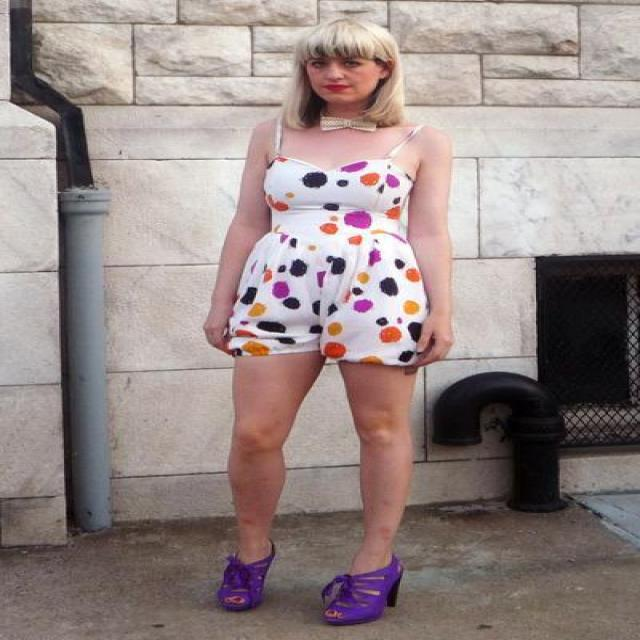dress: (203, 157, 424, 375)
shoe: (218, 550, 402, 625)
